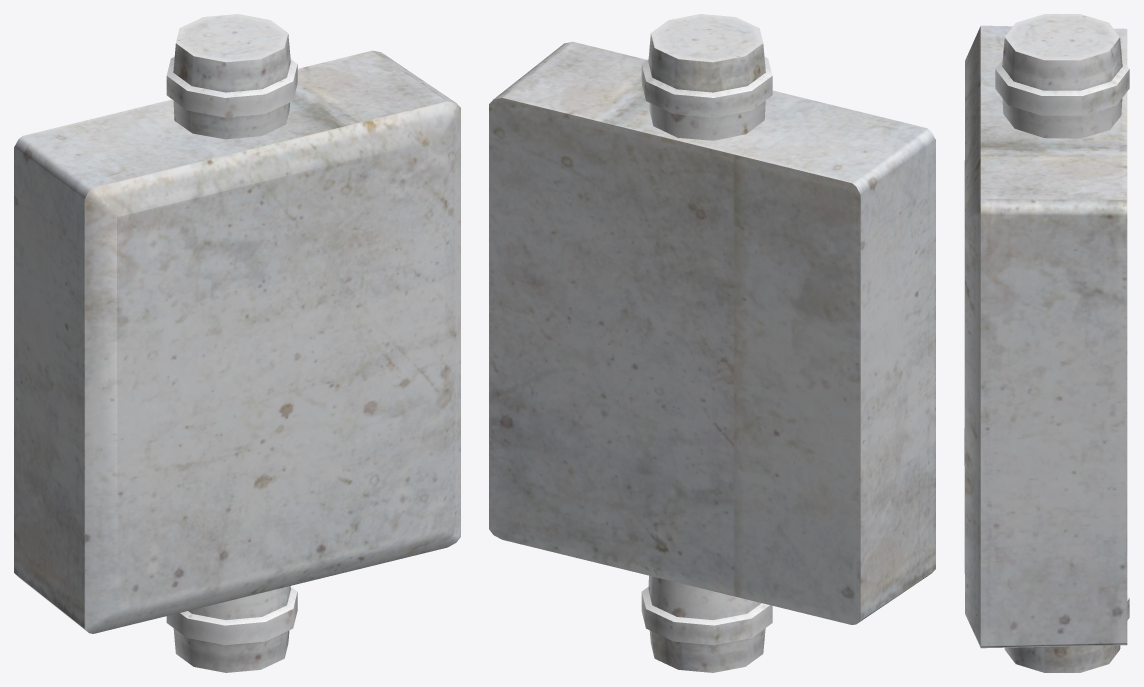
Rendered from SM_Wires_Pipes_01h.glb.
3 views of the same model, side by side, from view 1: azimuth 30°, elevation 25°; view 2: azimuth 150°, elevation 25°; view 3: azimuth 270°, elevation 25° (orthographic).
Visible parts, largest first — view 1: SM_Wires_Pipes_01h; view 2: SM_Wires_Pipes_01h; view 3: SM_Wires_Pipes_01h.
Boxes of the visible parts, bbox=[...] form: SM_Wires_Pipes_01h: bbox=[14, 14, 460, 672]; SM_Wires_Pipes_01h: bbox=[489, 14, 935, 672]; SM_Wires_Pipes_01h: bbox=[964, 14, 1129, 672].
Size of the model in its own units: 0.111 by 0.1723 by 0.042.
1 material, 1 textured.
